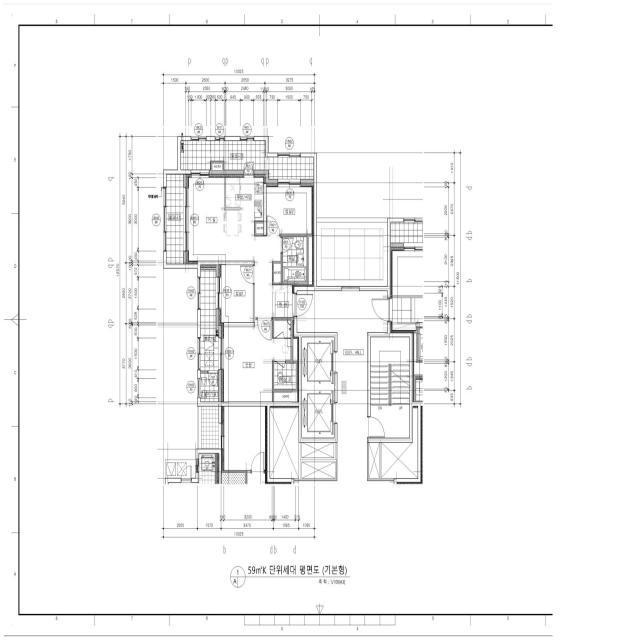space_balconi: (181, 141, 313, 179), (200, 270, 218, 370), (167, 174, 183, 264)
space_bedroom: (221, 327, 291, 402), (266, 184, 313, 234), (219, 265, 253, 323)
space_elevator: (302, 337, 334, 390), (302, 390, 334, 438)
space_elevator_hall: (297, 291, 387, 481)
space_front: (272, 285, 294, 317)
space_kitchen: (224, 174, 266, 236)
space_living_room: (186, 174, 281, 318)
space_other: (381, 406, 418, 478), (270, 406, 299, 478), (302, 462, 335, 478), (302, 443, 334, 458), (369, 443, 380, 478), (309, 236, 314, 287), (274, 392, 299, 402), (293, 337, 299, 361), (274, 263, 281, 283), (256, 223, 263, 234), (212, 163, 222, 170)
space_outdoor_room: (201, 373, 218, 402)
space_staircase: (370, 337, 409, 438)
space_toilet: (283, 237, 307, 282), (274, 363, 296, 389), (274, 320, 291, 338)
